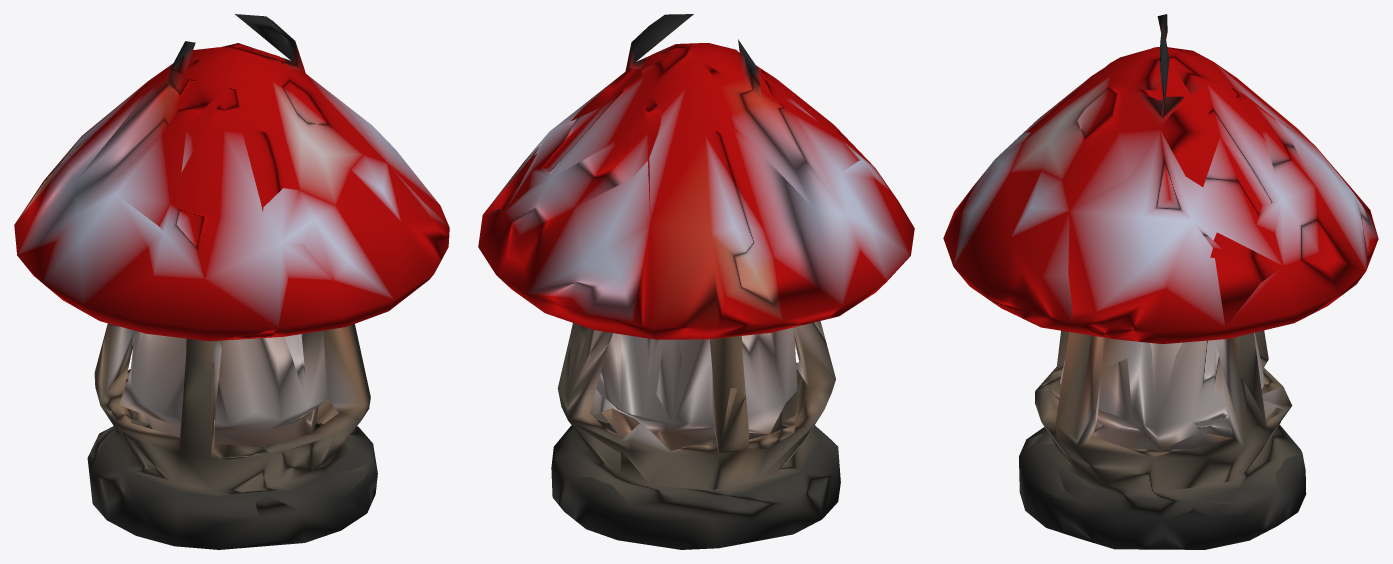
Rendered from gen3d-mushroom-lantern-lod1.glb.
The picture shows the model from 3 angles, left to right: view 1: azimuth 30°, elevation 25°; view 2: azimuth 150°, elevation 25°; view 3: azimuth 270°, elevation 25°; orthographic projection.
Visible parts, largest first — view 1: part_0; view 2: part_0; view 3: part_0.
Boxes of the visible parts, x1,y1,x2,y2 form: part_0: (14, 14, 449, 549); part_0: (478, 14, 914, 549); part_0: (943, 14, 1378, 549).
Size of the model in its own units: 0.8333 by 0.9966 by 0.83.
